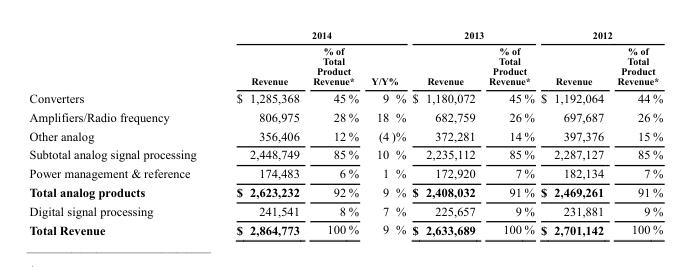table: (28, 29, 662, 236)
table column: (28, 29, 215, 236), (215, 29, 305, 236), (408, 29, 481, 236), (536, 29, 609, 236), (305, 29, 364, 236), (481, 29, 536, 236), (609, 29, 662, 236), (364, 29, 408, 236)
table column header: (28, 29, 662, 88)
table row: (28, 42, 662, 88), (28, 88, 662, 107), (28, 107, 662, 126), (28, 144, 662, 163), (28, 163, 662, 182), (28, 182, 662, 201), (28, 126, 662, 144), (28, 201, 662, 219), (28, 219, 662, 236), (28, 29, 662, 42)
table spanning cell: (215, 29, 408, 42), (408, 29, 536, 42), (536, 29, 662, 42)
